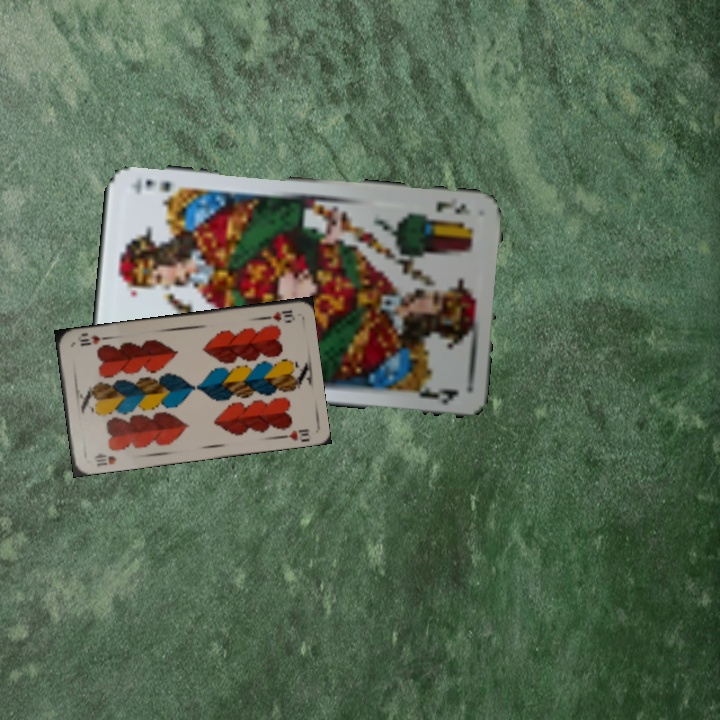EK: (431, 194, 473, 218)
H10: (257, 306, 297, 324), (90, 449, 120, 469)
